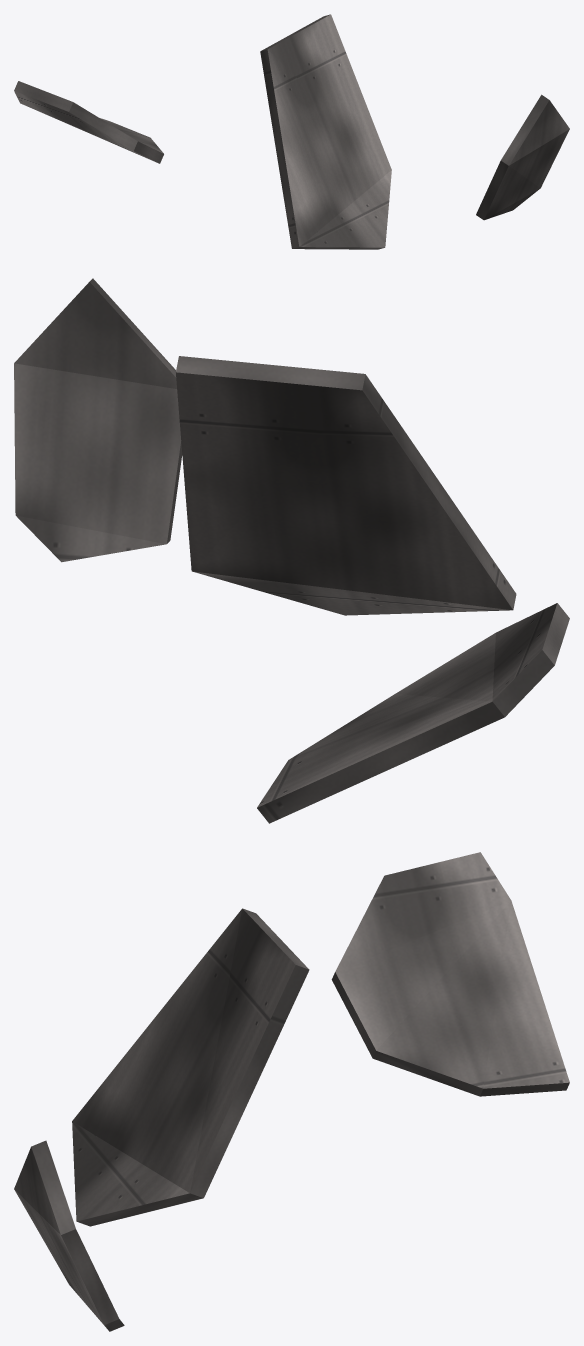
The model's file is crashed_pod_v1_s3.fbx.
The picture shows the model from 3 angles, top to bottom: view 1: azimuth 30°, elevation 25°; view 2: azimuth 150°, elevation 25°; view 3: azimuth 270°, elevation 25°; orthographic projection. The views are drawn at different scales.
Parts seen in each view (by area): view 1: crashed_pod_v1_s3_lod0; view 2: crashed_pod_v1_s3_lod0; view 3: crashed_pod_v1_s3_lod0.
Boxes of the visible parts, bbox=[...] form: crashed_pod_v1_s3_lod0: bbox=[14, 14, 569, 249]; crashed_pod_v1_s3_lod0: bbox=[14, 278, 569, 823]; crashed_pod_v1_s3_lod0: bbox=[14, 852, 569, 1331].
Size of what is drawn, in the model's own units: 155 by 64.1 by 117.
Materials: 1 (1 with a texture image).
